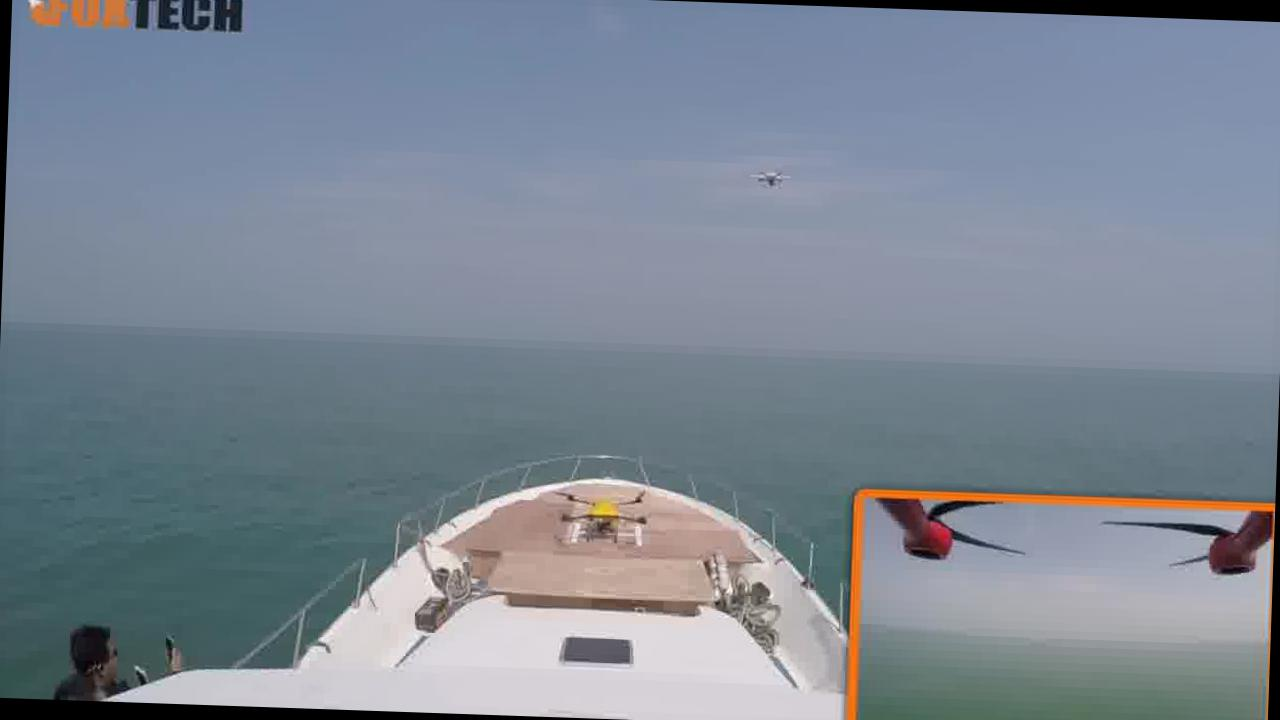drone: (544, 459, 668, 546), (744, 146, 806, 194)
